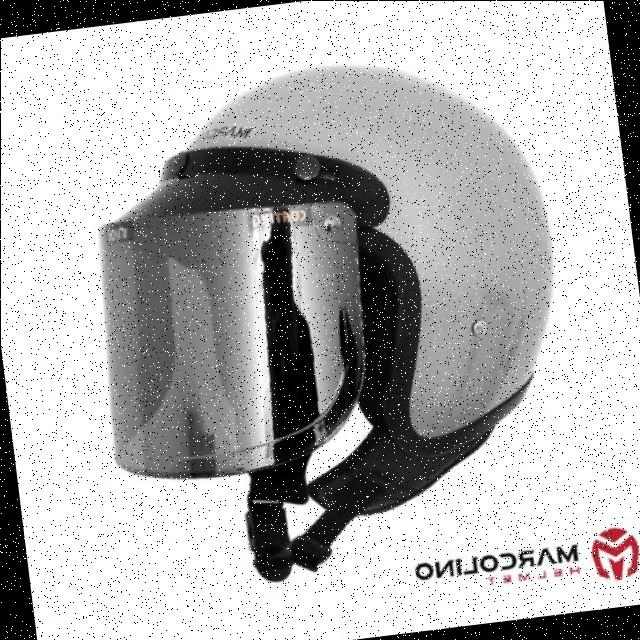Helm: (42, 22, 610, 608)
